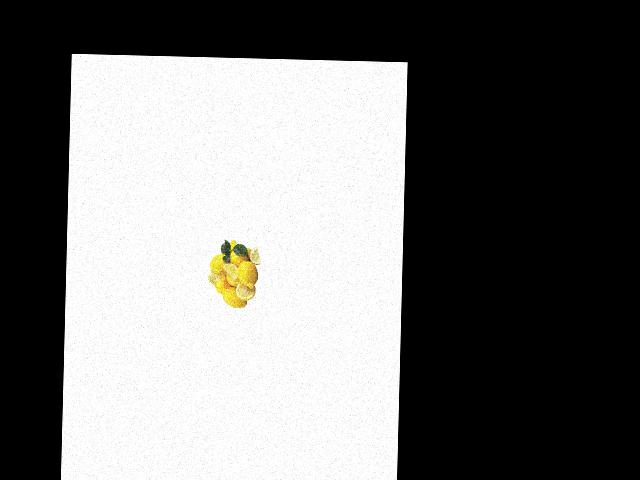lemon: (229, 245, 251, 269)
